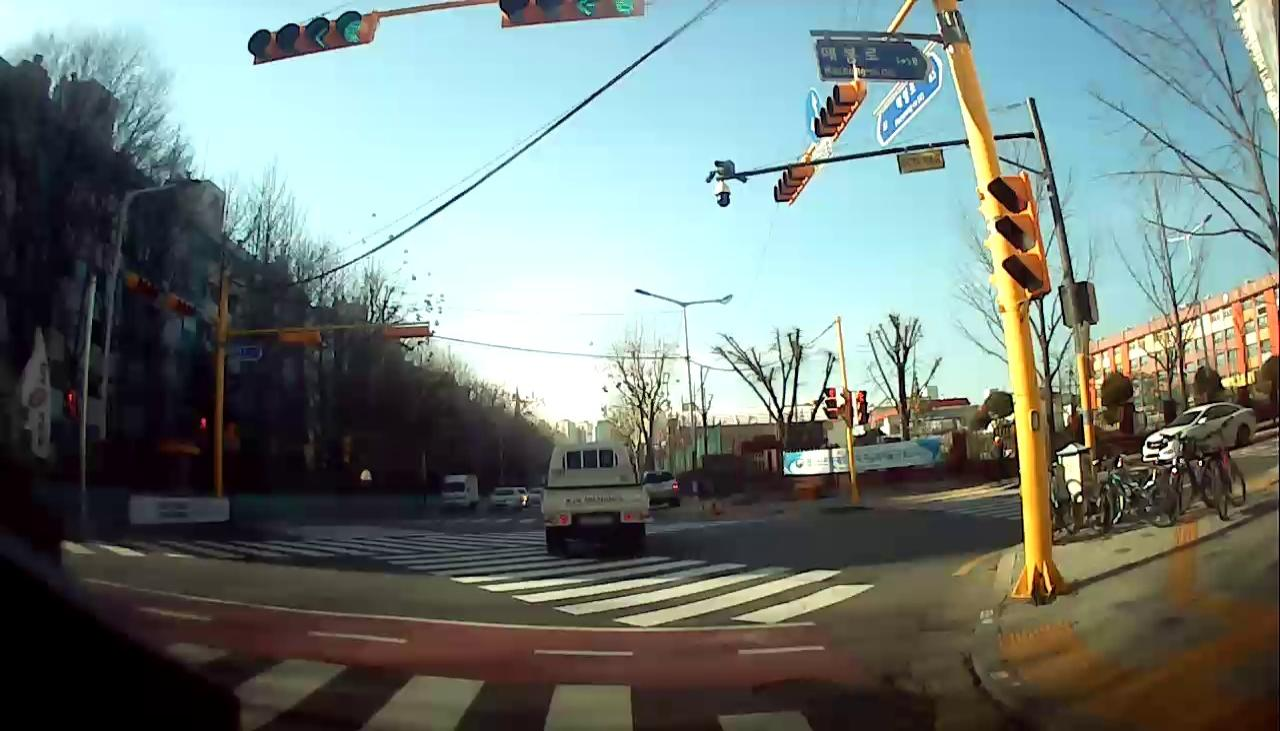Green Light: (336, 10, 366, 47), (614, 0, 632, 14)
Left turn: (304, 18, 333, 51), (574, 0, 599, 18)
